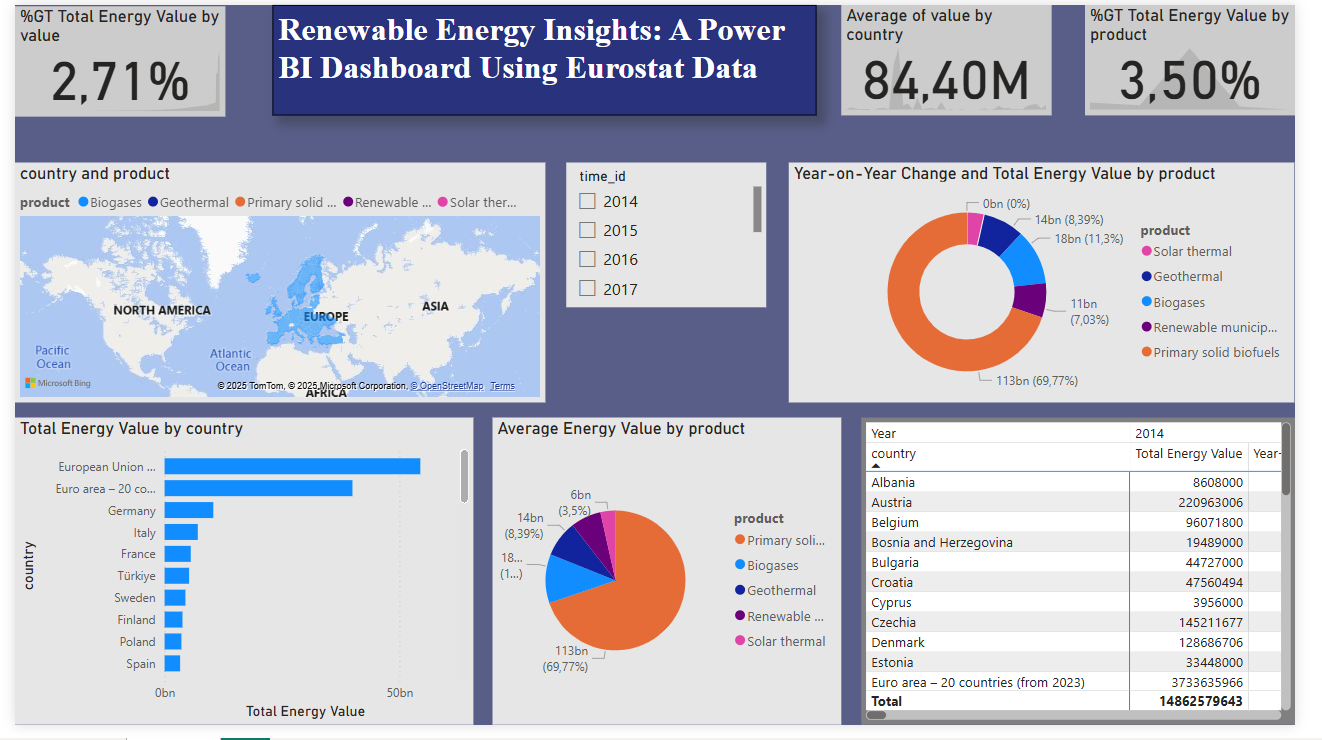

This screenshot's page, from the dashboard's own definition file:
{"tool":"powerbi","page":{"name":"Page 1","canvas":[1280,720],"ordinal":0},"visuals":[{"type":"clusteredBarChart","fields":{"Category":["dim_country.country"],"Y":["fact_energy.TOTAL Energy Value"]},"box":[0,412.9,458.6,307.1],"z":0},{"type":"slicer","fields":{"Values":["fact_energy.time_id"]},"box":[551.2,157.5,200,145],"z":1000},{"type":"donutChart","fields":{"Y":["dim_time.Year-on-Year Change","fact_energy.Total Energy Value"],"Category":["dim_energy_product.product"]},"box":[774.3,157.1,505.7,240],"z":2000},{"type":"pivotTable","fields":{"Rows":["dim_country.country"],"Columns":["dim_time.Year"],"Values":["fact_energy.Total Energy Value","dim_time.Year-on-Year Change"]},"box":[845.7,412.9,434.3,307.1],"z":3000},{"type":"pieChart","fields":{"Y":["fact_energy.Average Energy Value"],"Category":["dim_energy_product.product"]},"box":[477.1,412.9,348.6,307.1],"z":4000},{"type":"filledMap","fields":{"Category":["dim_country.country"],"Series":["dim_energy_product.product"]},"box":[0,157.1,530,240],"z":5000},{"type":"kpi","fields":{"Indicator":["fact_energy.Total Energy Value"],"TrendLine":["dim_energy_product.product"]},"box":[1070,0,210,110],"z":6000},{"type":"kpi","fields":{"TrendLine":["dim_country.country"],"Indicator":["Avg(fact_energy.value)"]},"box":[825.7,0,210,110],"z":7000},{"type":"kpi","fields":{"Indicator":["fact_energy.Total Energy Value"],"TrendLine":["fact_energy.value"]},"box":[0,1.4,210,110],"z":8000},{"type":"textbox","box":[257.1,0,544.3,110],"z":9000}]}

Visuals, with their boxes in screenshot pixels (x1, y1, x2, y2), scaled from the page's 1280x720 canvas onto the 1322x740 screenshot:
clusteredBarChart - dim_country.country x fact_energy.TOTAL Energy Value: (0, 424, 474, 739)
slicer - fact_energy.time_id: (569, 162, 776, 311)
donutChart - dim_time.Year-on-Year Change x fact_energy.Total Energy Value: (800, 161, 1321, 408)
pivotTable - dim_country.country x dim_time.Year: (873, 424, 1321, 739)
pieChart - fact_energy.Average Energy Value x dim_energy_product.product: (493, 424, 853, 739)
filledMap - dim_country.country x dim_energy_product.product: (0, 161, 547, 408)
kpi - fact_energy.Total Energy Value x dim_energy_product.product: (1105, 0, 1321, 113)
kpi - dim_country.country x Avg(fact_energy.value): (853, 0, 1070, 113)
kpi - fact_energy.Total Energy Value x fact_energy.value: (0, 1, 217, 114)
textbox: (266, 0, 828, 113)
